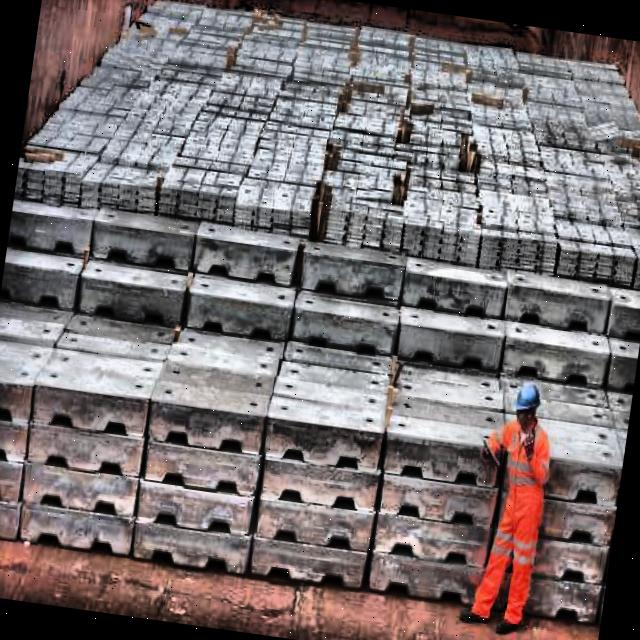helmet: (508, 378, 546, 436)
